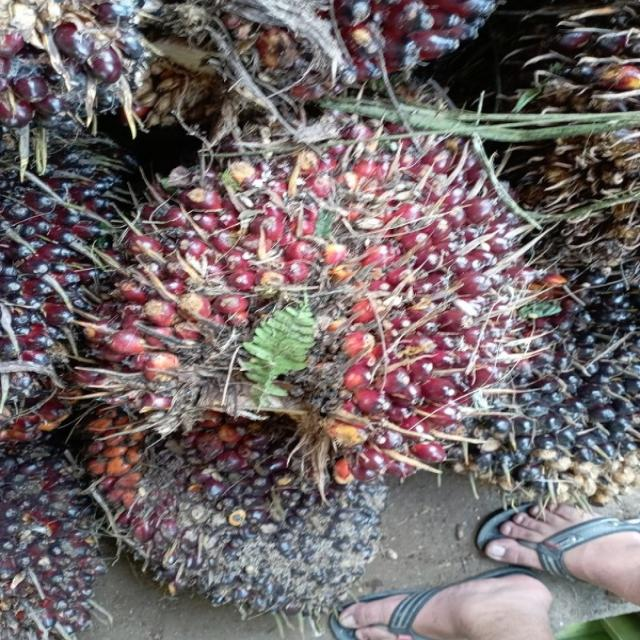fraksi 00: (66, 388, 393, 603), (455, 265, 640, 500)
fraksi 1: (88, 98, 518, 472)
